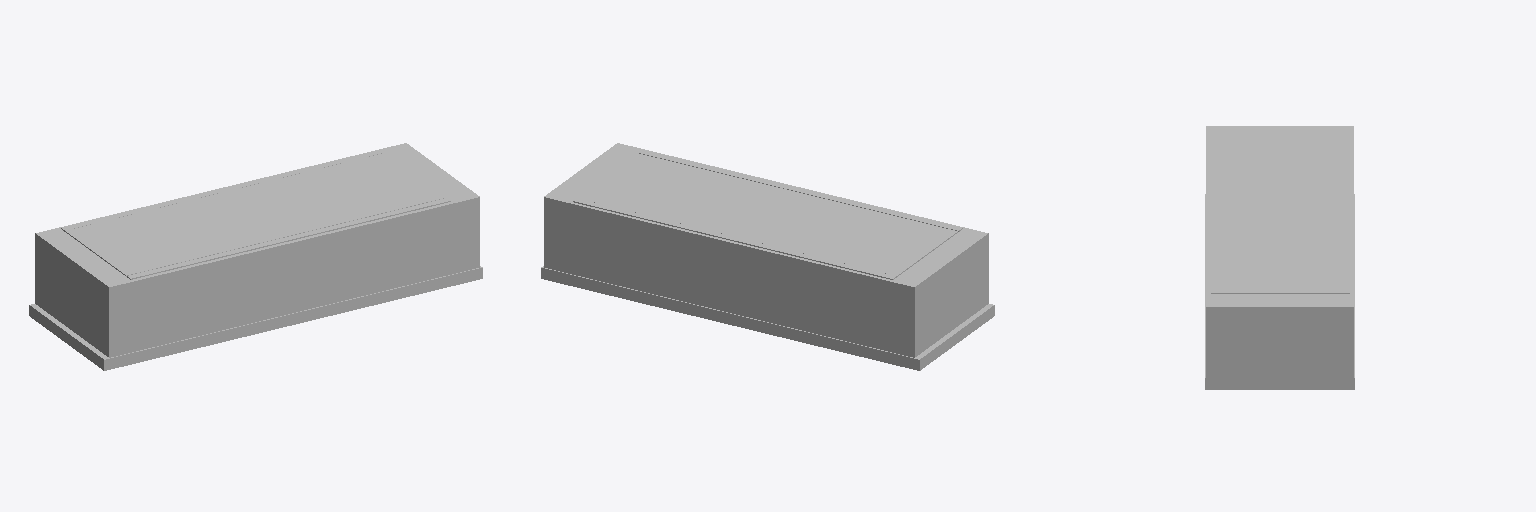
The model's file is AirLockHitBoxData.obj.
3 renders of one model, left to right at view 1: azimuth 30°, elevation 25°; view 2: azimuth 150°, elevation 25°; view 3: azimuth 270°, elevation 25°, orthographic.
Parts seen in each view (by area): view 1: Big_Cube.007, Cube.002_Cube.003, Cube.001_Cube.002, Cube.004_Cube.005, Cube.003_Cube.004; view 2: Big_Cube.007, Cube.002_Cube.003, Cube.001_Cube.002, Cube.003_Cube.004, Cube.004_Cube.005; view 3: Cube.002_Cube.003, Big_Cube.007, Cube.001_Cube.002, Cube.003_Cube.004, Cube.004_Cube.005.
Boxes of the visible parts, <box> form: Big_Cube.007: <box>35,143,479,357</box>; Cube.002_Cube.003: <box>65,153,445,276</box>; Cube.001_Cube.002: <box>29,266,482,370</box>; Cube.004_Cube.005: <box>127,198,450,279</box>; Cube.003_Cube.004: <box>61,150,384,231</box>; Big_Cube.007: <box>544,143,988,357</box>; Cube.002_Cube.003: <box>578,153,957,276</box>; Cube.001_Cube.002: <box>541,266,994,370</box>; Cube.003_Cube.004: <box>573,198,896,279</box>; Cube.004_Cube.005: <box>639,150,962,231</box>; Cube.002_Cube.003: <box>1219,136,1341,293</box>; Big_Cube.007: <box>1206,126,1353,377</box>; Cube.001_Cube.002: <box>1205,194,1354,389</box>; Cube.003_Cube.004: <box>1342,136,1349,293</box>; Cube.004_Cube.005: <box>1211,136,1218,293</box>.
Bounding box in the file's own units: 34.88 × 7.32 × 11.99.